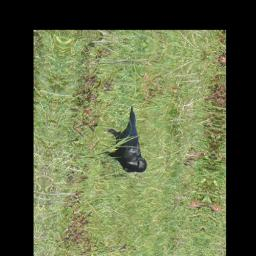Crow: (99, 100, 155, 176)
